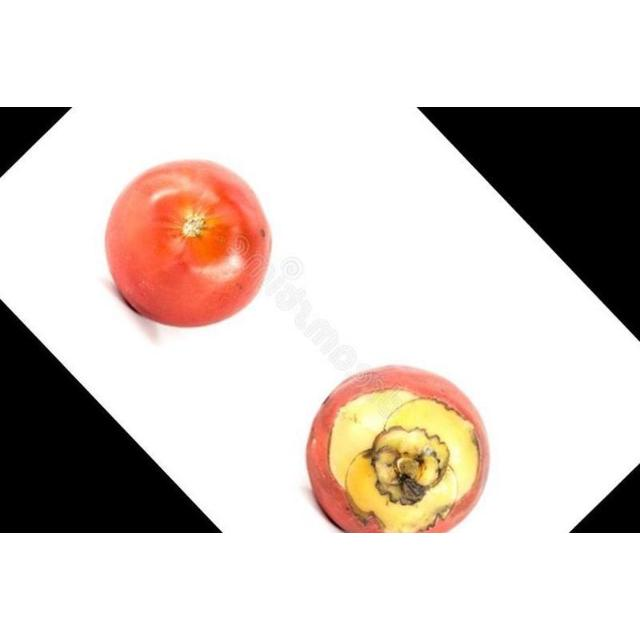good: (305, 366, 490, 533), (103, 159, 274, 330)
